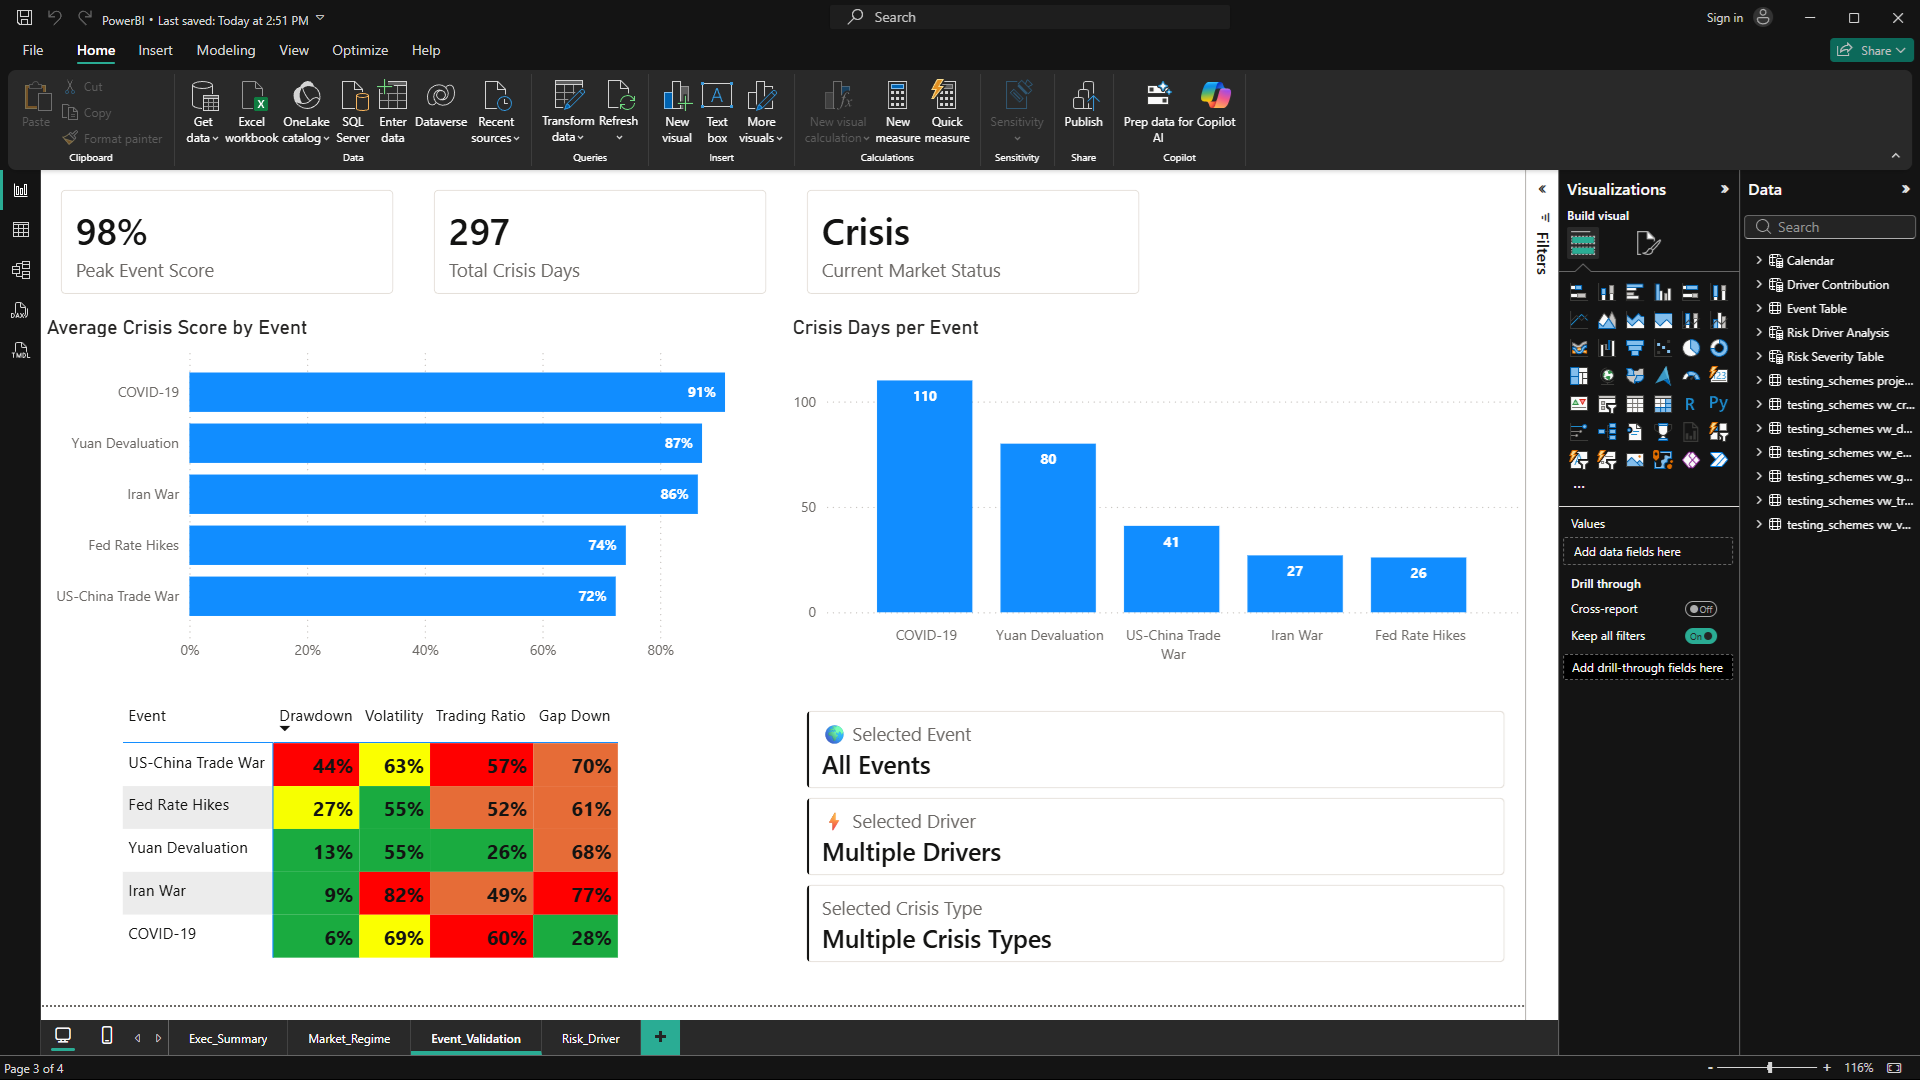

Layout of this report page (visuals, bound fields, positions):
{"tool":"powerbi","page":{"name":"Event_Validation","canvas":[1280,720],"ordinal":2},"visuals":[{"type":"cardVisual","fields":{"Data":["testing_schemes vw_crisis_intensity.Peak Crisis Score"]},"box":[0,0,321.6,124.8],"z":0},{"type":"cardVisual","fields":{"Data":["testing_schemes vw_crisis_intensity.Total Crisis Days"]},"box":[321.6,0,321.6,124.8],"z":1000},{"type":"cardVisual","fields":{"Data":["testing_schemes vw_exec_summary.Current Market Status"]},"box":[643.2,0,321.6,124.8],"z":3000},{"type":"clusteredBarChart","title":"Average Crisis Score by Event","fields":{"Category":["Event Table.Event"],"Y":["testing_schemes vw_crisis_intensity.Avg Event Score"]},"box":[0,124.9,640,307.4],"z":4000},{"type":"columnChart","title":"Crisis Days per Event","fields":{"Y":["testing_schemes vw_crisis_intensity.Crisis Days During Event"],"Category":["Event Table.Event"]},"box":[643.6,124.9,636.4,307.4],"z":5000},{"type":"pivotTable","fields":{"Rows":["Event Table.Event"],"Values":["Event Table.Event Drawdown","Event Table.Event Volatility","Event Table.Event Trading Ratio","Event Table.Event Gap"]},"box":[65.6,449.4,511.5,252.6],"z":6000},{"type":"cardVisual","fields":{"Data":["Event Table.Selected Event","Event Table.Selected Driver","Event Table.Selected Crisis Type"]},"box":[643.6,449.4,636.4,252.6],"z":7000}]}

Visuals, with their boxes on the page's 1280x720 design canvas (x1, y1, x2, y2). These are canvas units, not pixel positions in the 1921x1080 screenshot, which may show the page scaled, cropped or inside an application window:
cardVisual - testing_schemes vw_crisis_intensity.Peak Crisis Score: [0, 0, 322, 125]
cardVisual - testing_schemes vw_crisis_intensity.Total Crisis Days: [322, 0, 643, 125]
cardVisual - testing_schemes vw_exec_summary.Current Market Status: [643, 0, 965, 125]
"Average Crisis Score by Event" clusteredBarChart: [0, 125, 640, 432]
"Crisis Days per Event" columnChart: [644, 125, 1280, 432]
pivotTable - Event Table.Event x Event Table.Event Drawdown: [66, 449, 577, 702]
cardVisual - Event Table.Selected Event x Event Table.Selected Driver: [644, 449, 1280, 702]
